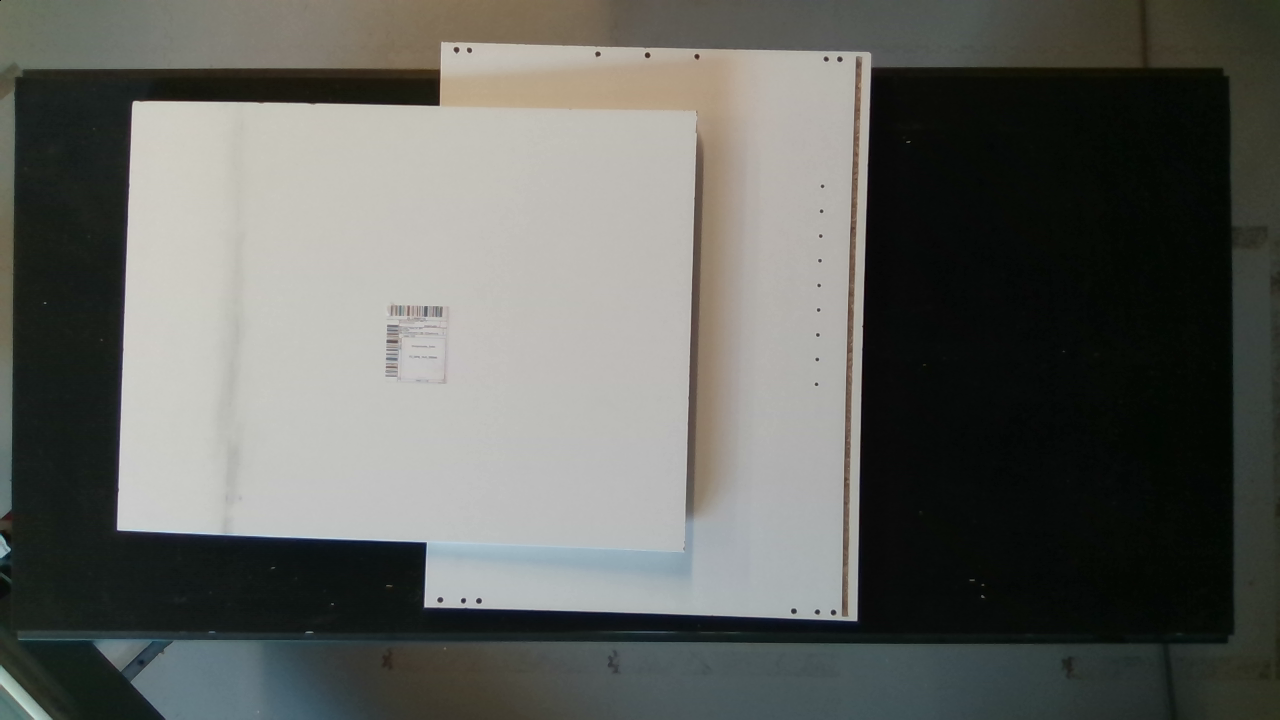barcode: (381, 296, 456, 394)
part2: (435, 31, 881, 632), (106, 94, 693, 548)
